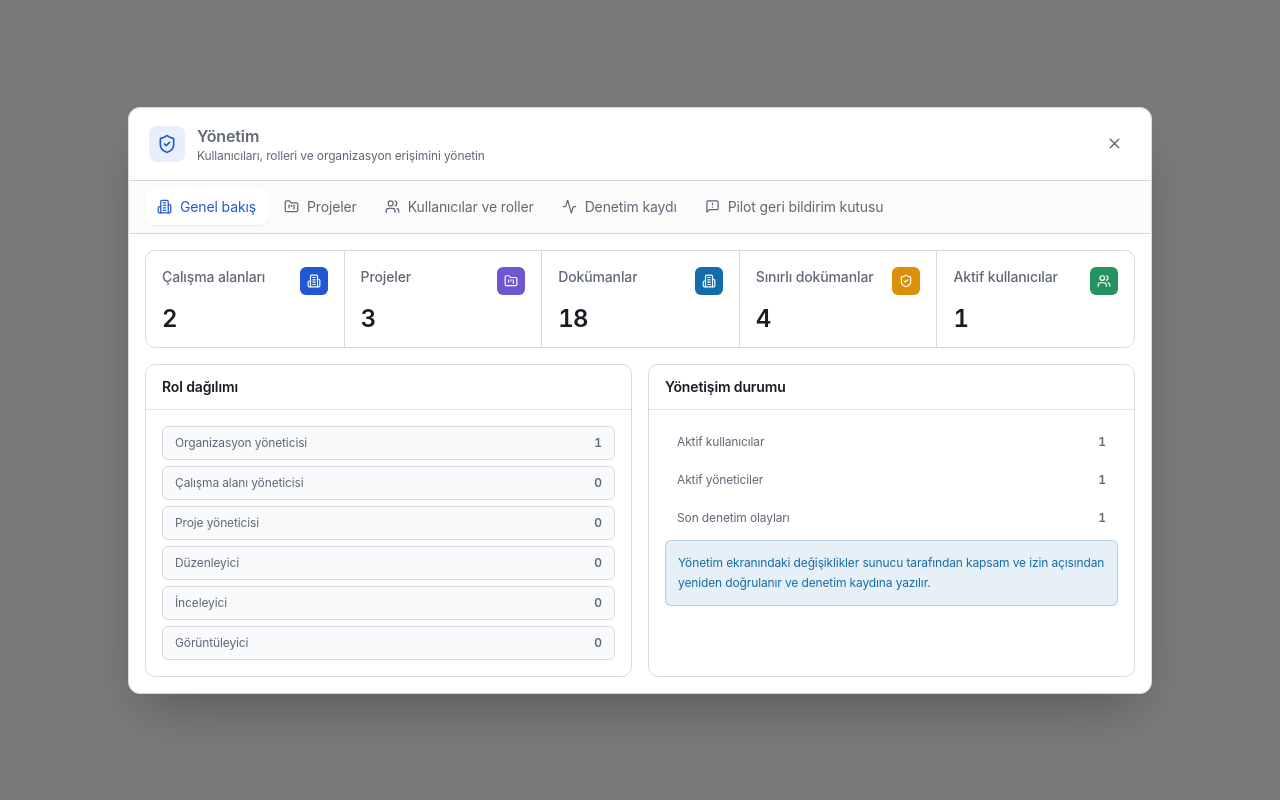
it: AdminPanel › separates organization scope, users, audit and feedback
Check: the text "18" is shown, box [558,306,588,330]
Click the button "Denetim kaydı": (619, 206) [550,188,689,224]
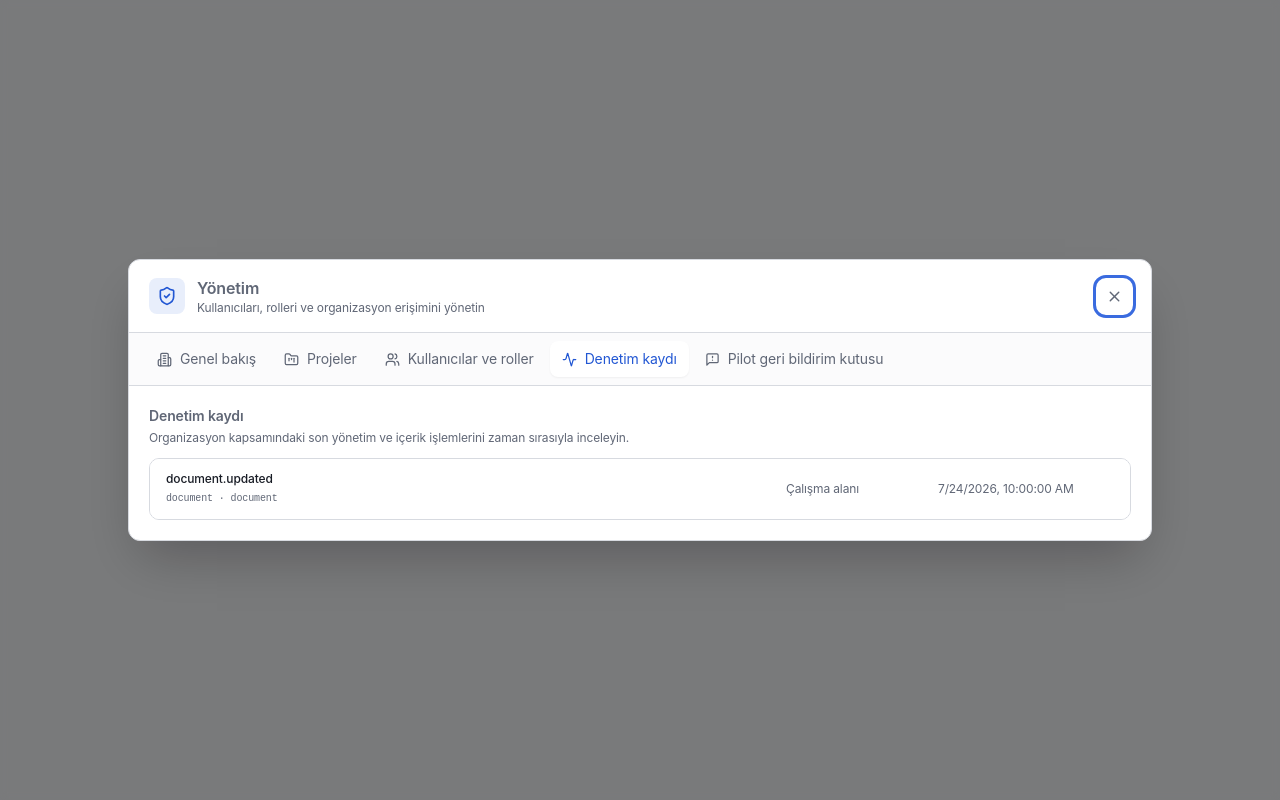
Check: the text "document.updated" is shown, box [166,471,273,486]
Click the button "Kullanıcılar ve roller": (459, 359) [373,341,546,377]
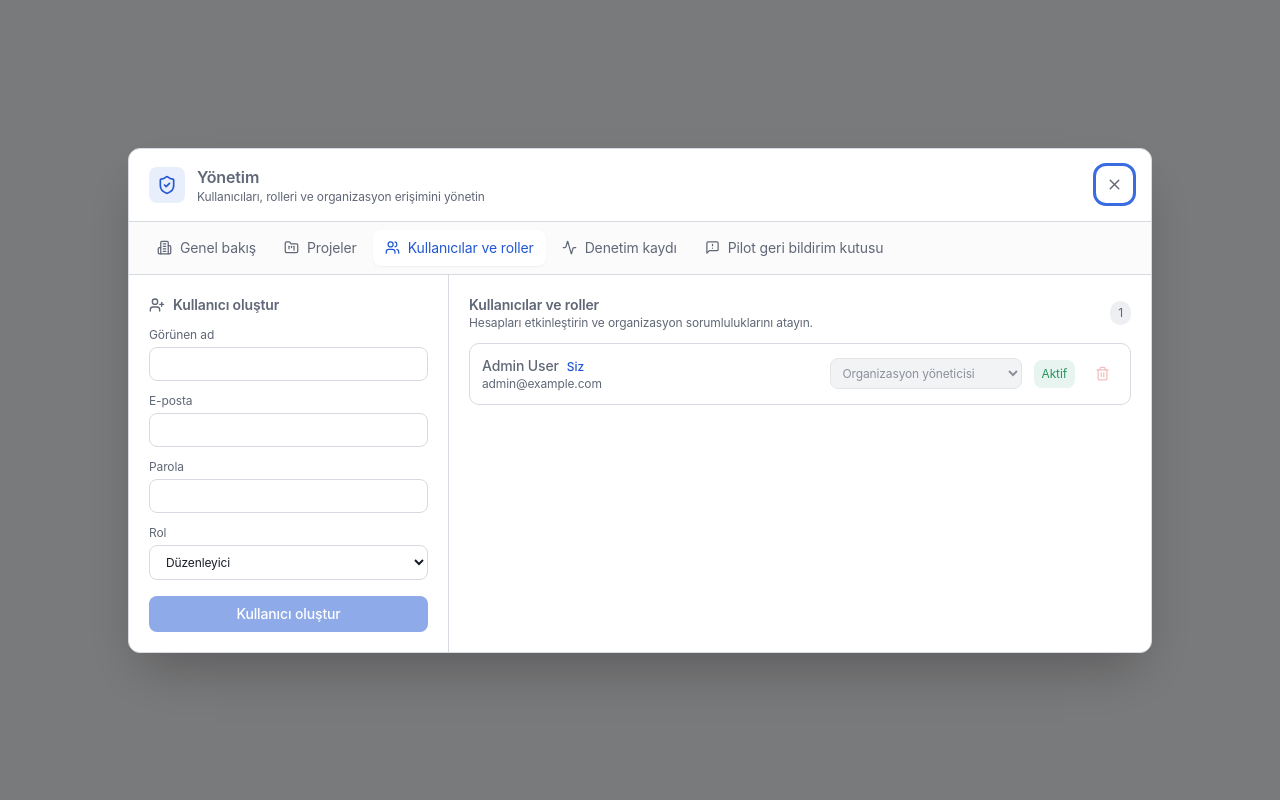
Check: the text "Admin User" is shown, box [482,356,559,374]
